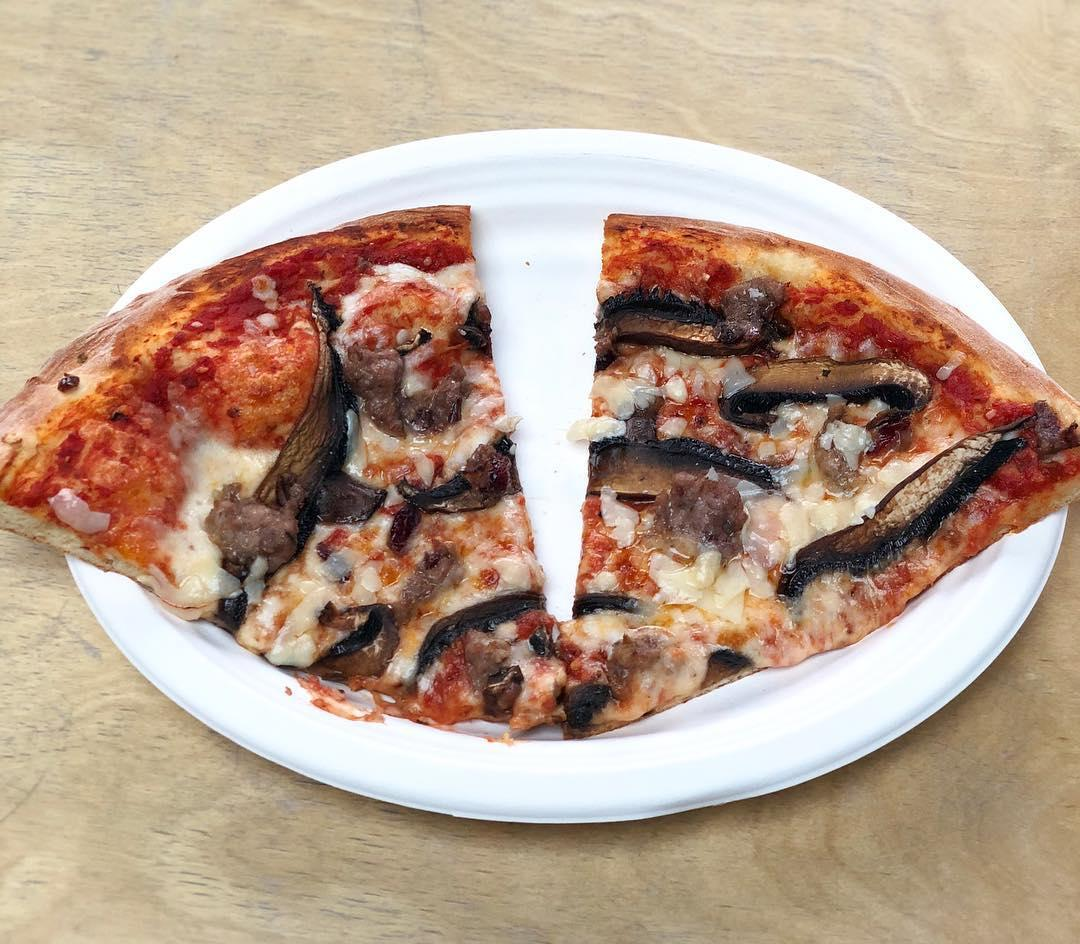Basil: (0, 206, 557, 730), (559, 214, 1080, 729)
Mushroom: (781, 431, 1022, 597), (400, 576, 550, 675), (340, 315, 470, 428), (719, 357, 933, 425), (590, 439, 782, 513), (285, 284, 345, 516), (199, 482, 312, 578), (594, 294, 800, 344), (410, 438, 512, 514), (323, 604, 403, 681), (567, 565, 649, 629), (1015, 390, 1080, 469), (444, 289, 507, 364), (560, 664, 614, 727), (619, 385, 672, 446)
